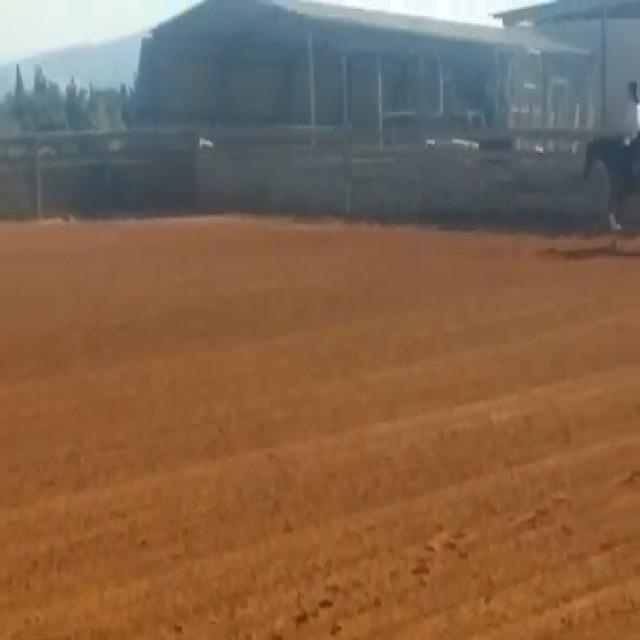horse: (580, 124, 639, 233)
